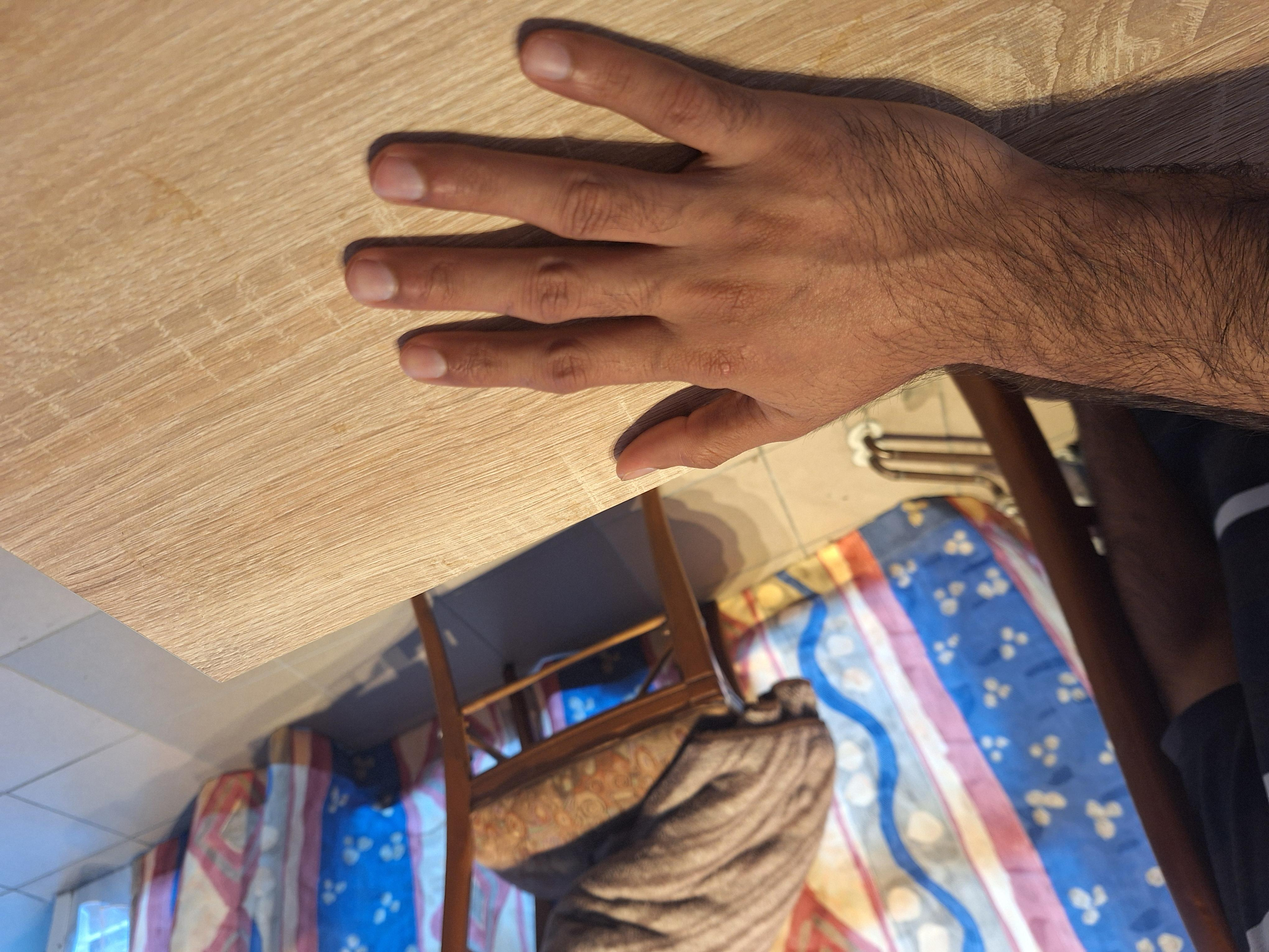Fingernail: (349, 260, 398, 305), (374, 158, 424, 201), (524, 38, 571, 80), (399, 347, 447, 379)
